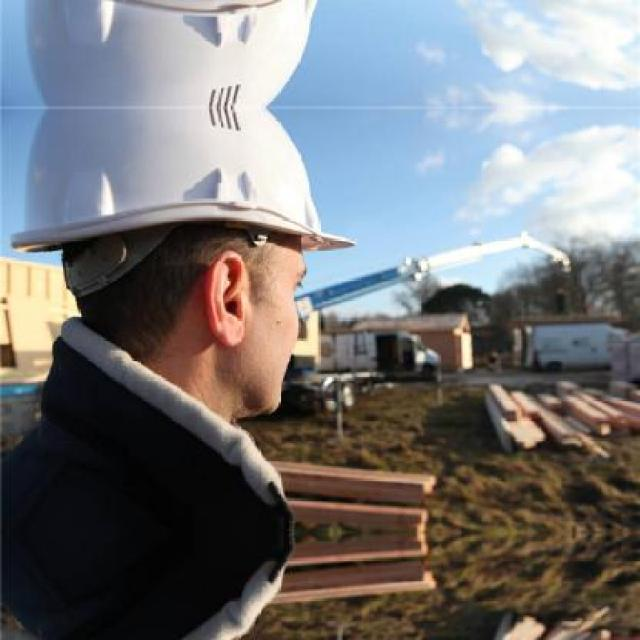helmet: (0, 106, 351, 426), (0, 0, 352, 107)
